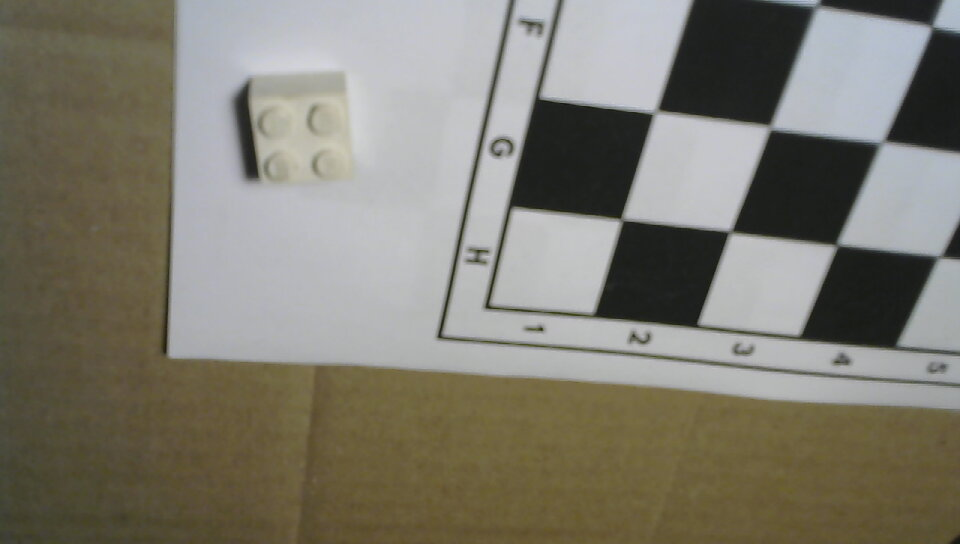wp: (224, 49, 373, 198)
